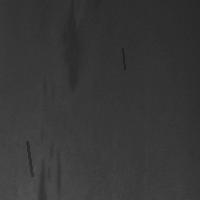inclusion: (53, 1, 87, 96), (35, 133, 66, 199), (25, 139, 34, 178), (120, 46, 126, 71)
